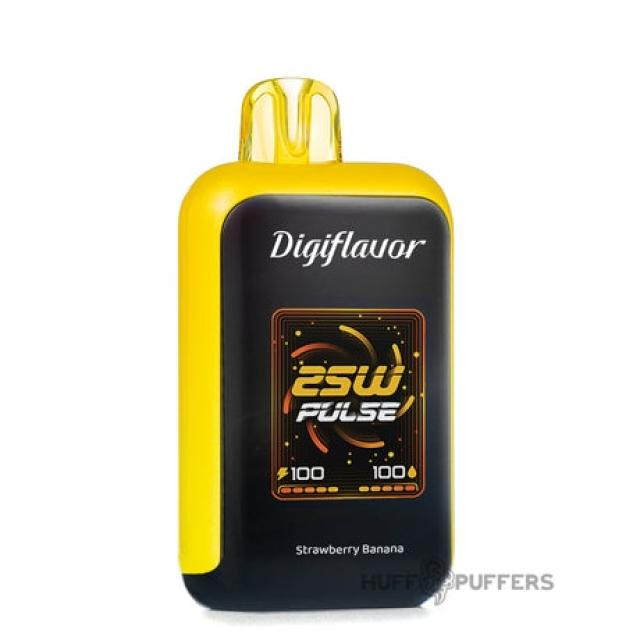Hazard: (175, 75, 455, 612)
